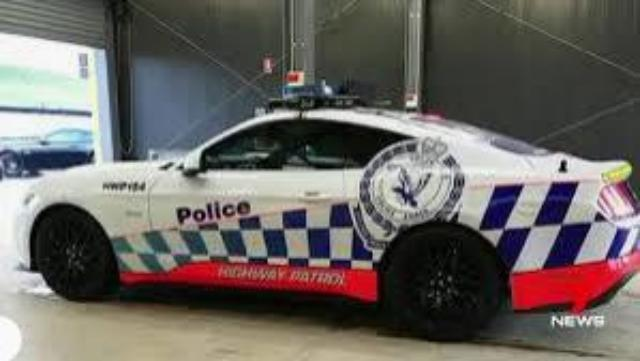police_car: (15, 73, 640, 342)
